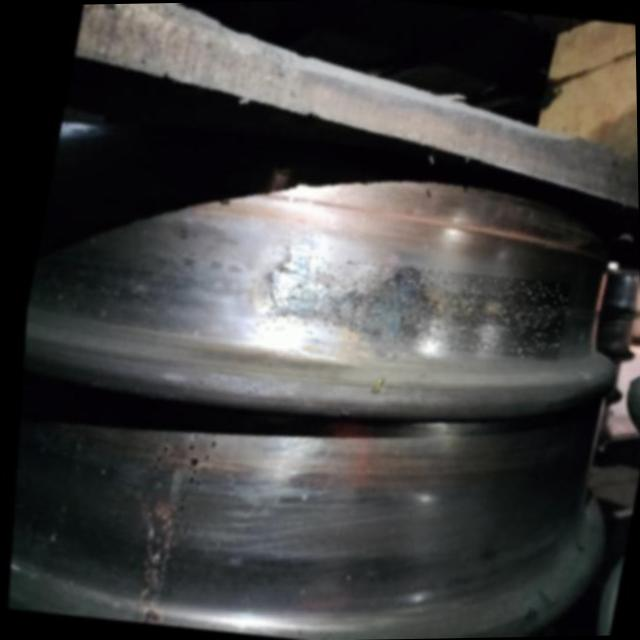Rollerpile: (246, 248, 569, 368)
